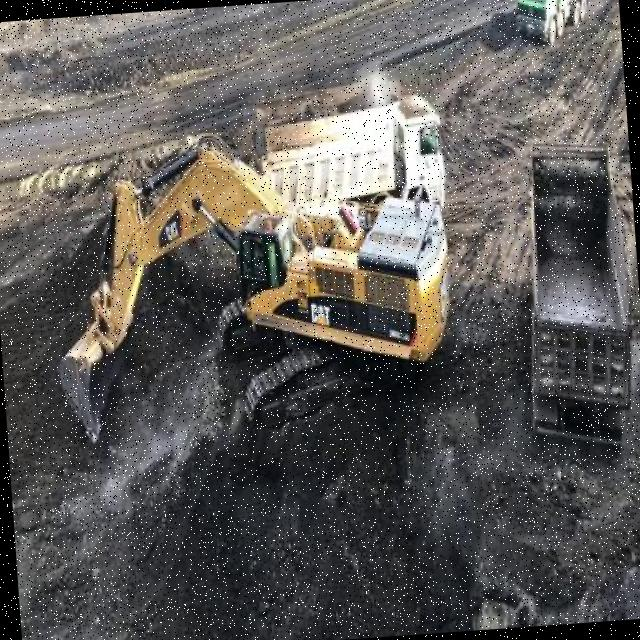Dump Truck: (507, 128, 640, 454), (242, 88, 448, 222), (511, 0, 598, 47)
Excavator: (34, 119, 461, 456)
